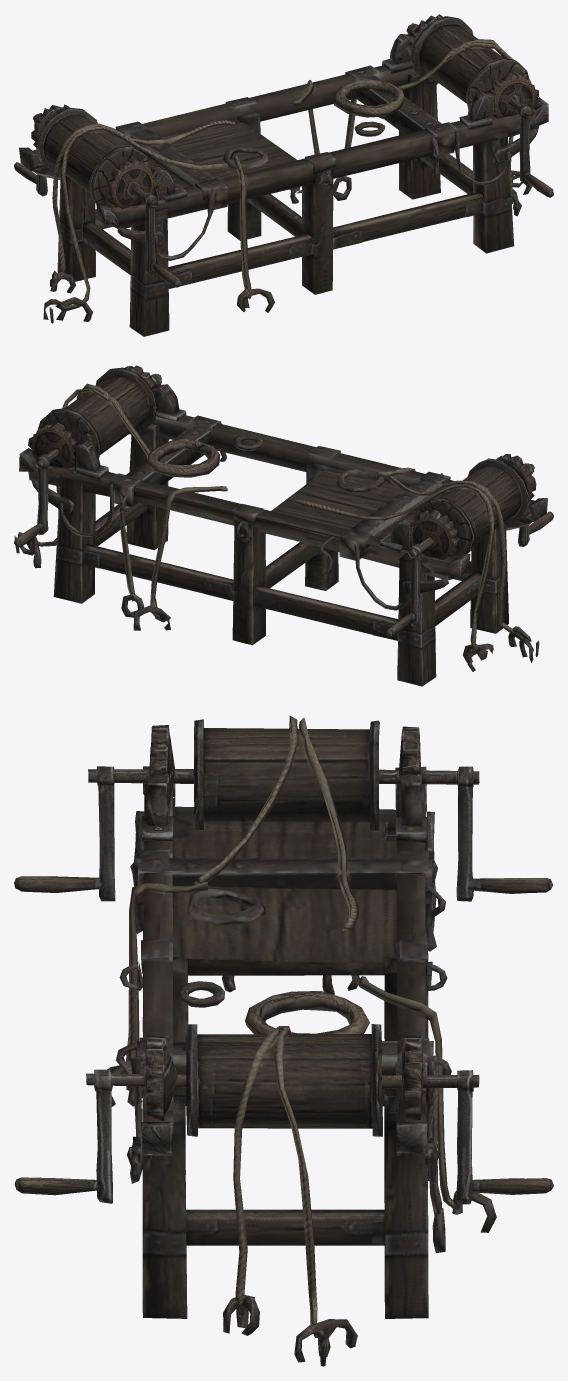
3 renders of one model, top to bottom at view 1: azimuth 30°, elevation 25°; view 2: azimuth 150°, elevation 25°; view 3: azimuth 270°, elevation 25°, orthographic. The views are drawn at different scales.
Size of the model in its own units: 1 by 0.3398 by 0.5652.
1 material, 1 textured.
